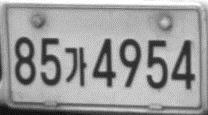4: (91, 37, 116, 87), (170, 39, 195, 89)
5: (145, 38, 168, 89), (39, 37, 60, 86)
8: (13, 35, 36, 85)
9: (119, 38, 141, 88)
가: (64, 46, 87, 86)
